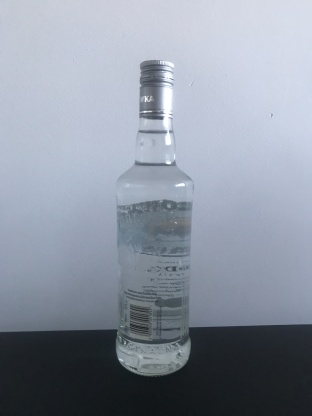nakretka: (138, 58, 175, 121)
